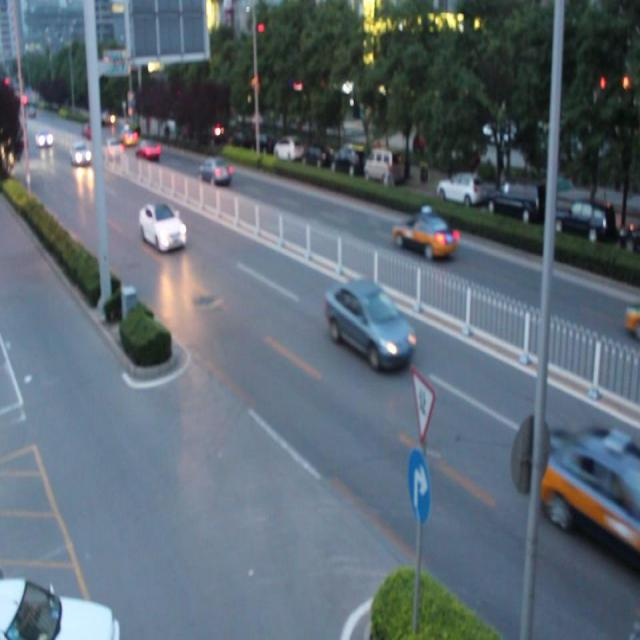car: (550, 423, 640, 561), (322, 278, 414, 366), (1, 576, 120, 640), (393, 212, 455, 258), (140, 201, 187, 249), (198, 156, 231, 185), (137, 140, 159, 160)
